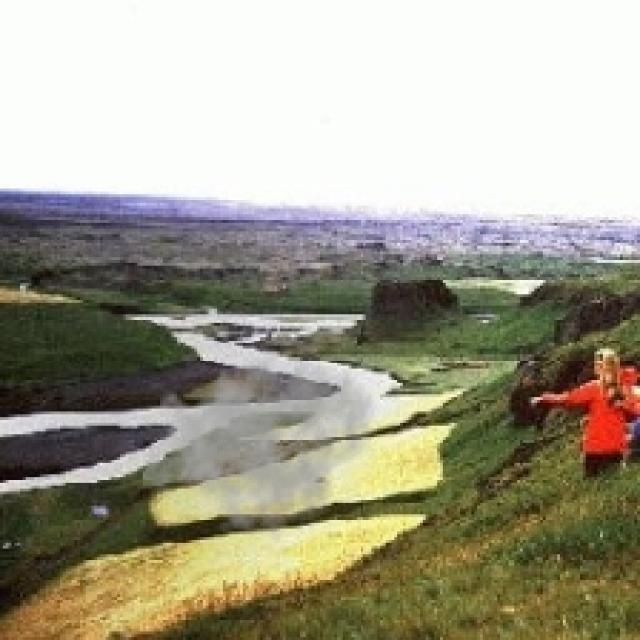smoke: (140, 337, 377, 543)
